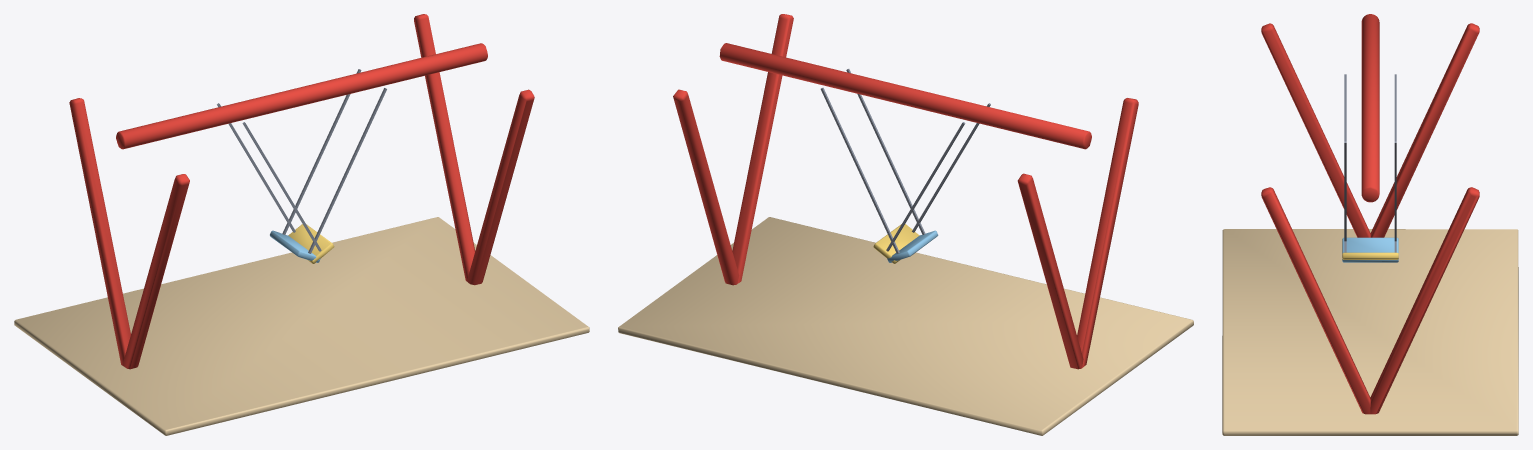
The model's file is swing.glb.
The picture shows the model from 3 angles, left to right: view 1: azimuth 30°, elevation 25°; view 2: azimuth 150°, elevation 25°; view 3: azimuth 270°, elevation 25°; orthographic projection. The views are drawn at different scales.
Visible parts, largest first — view 1: swing.002, seat1.011, seat0.007; view 2: swing.002, seat1.011, seat0.007; view 3: swing.002, seat1.011, seat0.007.
Part boxes in pixels (left/top/right/bottom): swing.002: left=14, top=14, right=589, bottom=435; seat1.011: left=270, top=69, right=386, bottom=262; seat0.007: left=217, top=103, right=334, bottom=263; swing.002: left=618, top=14, right=1193, bottom=435; seat1.011: left=820, top=69, right=938, bottom=262; seat0.007: left=873, top=103, right=990, bottom=263; swing.002: left=1222, top=14, right=1518, bottom=435; seat1.011: left=1342, top=141, right=1398, bottom=262; seat0.007: left=1342, top=74, right=1398, bottom=259.
Size of the model in its own units: 4.2 by 2.29 by 2.6.
1 material, 1 textured.
